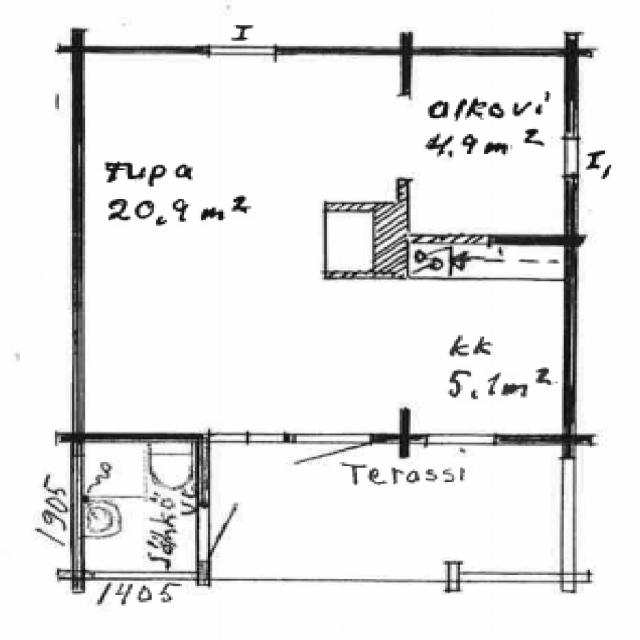door: (292, 432, 371, 510), (198, 506, 277, 562)
